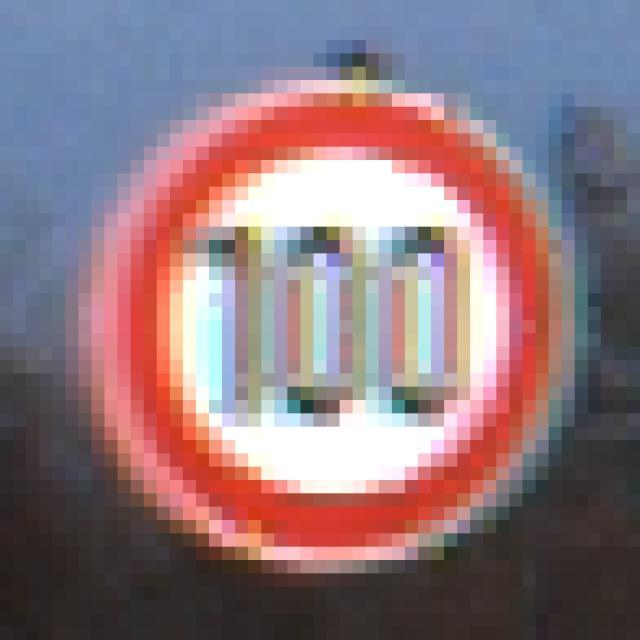Ograniczenie predkosci do 100: (100, 81, 565, 570)
